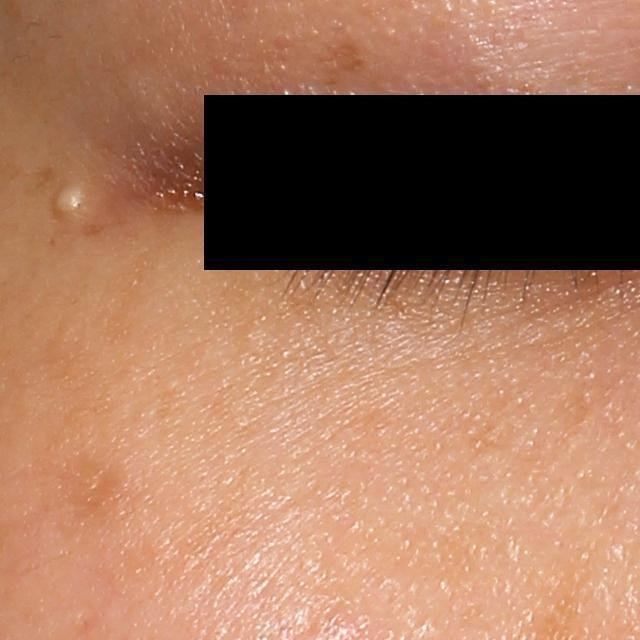melasma: (61, 448, 125, 532), (316, 36, 365, 84)
other: (42, 172, 102, 229)
